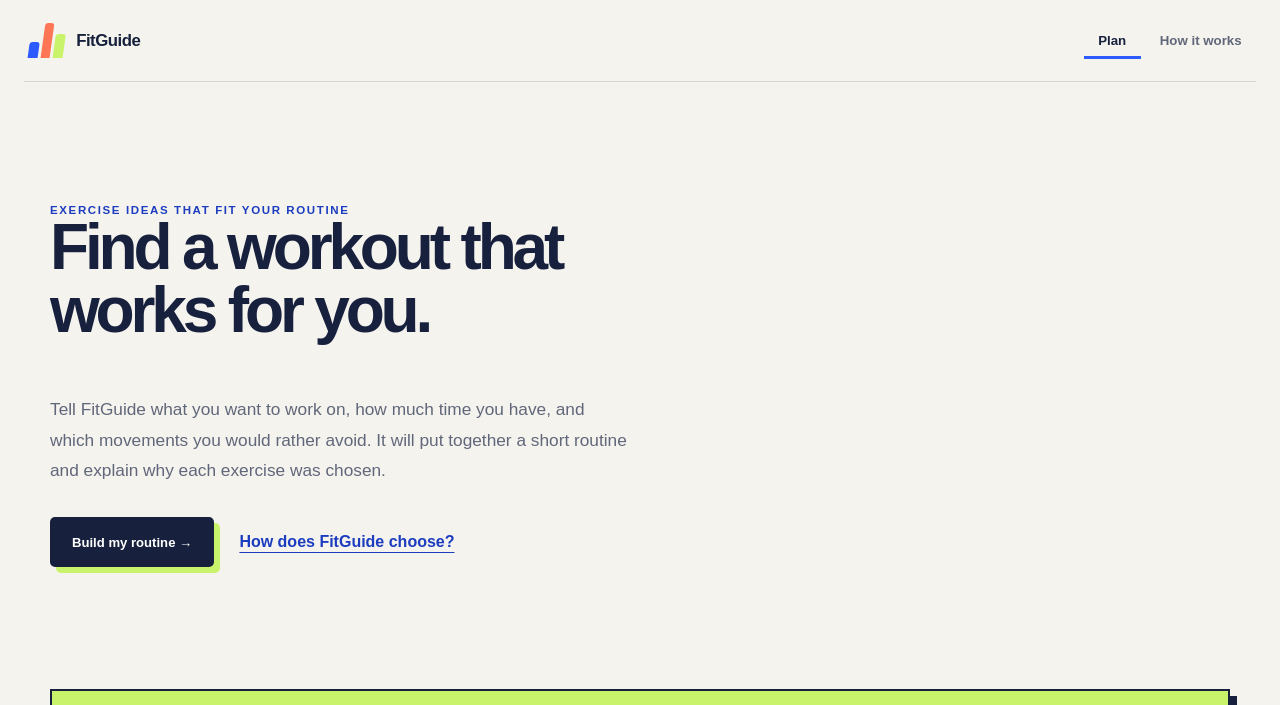
Test: FitGuide application › submits the profile and displays a successful recommendation
Click the button "Build my routine →".
click(132, 542)  # box [50,517,214,567]
(page scrolled)
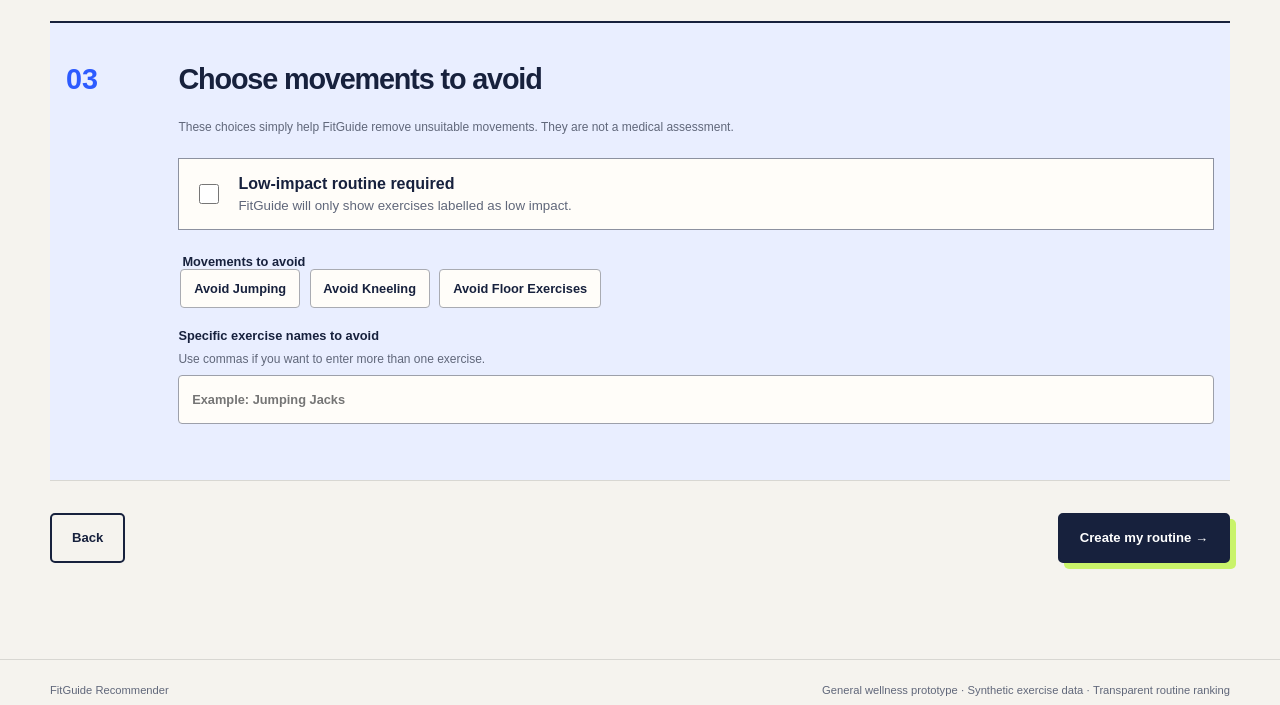
Click the button "Create my routine →".
click(1144, 538)  # box [1058,513,1230,563]
(page scrolled)
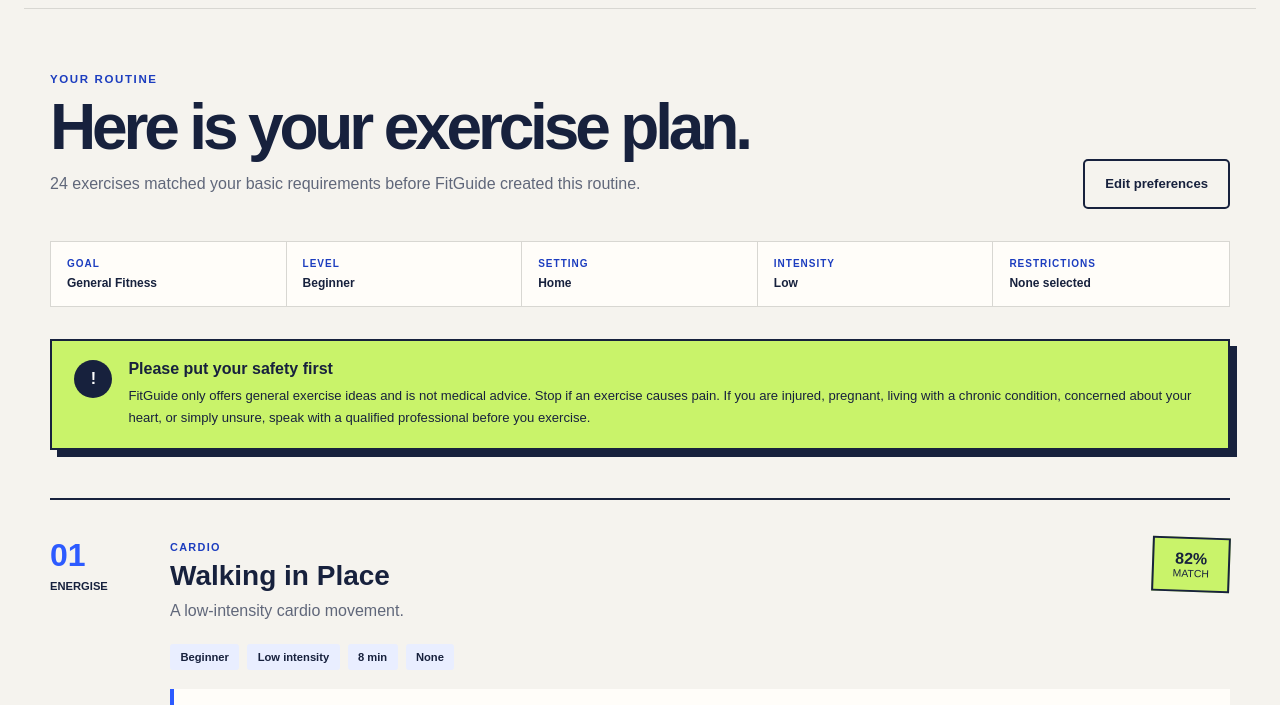
Result: the heading "Walking in Place" is shown at [170,560,390,592]
Result: the text "24 exercises matched your basic requirements" is shown at [50,175,640,192]
